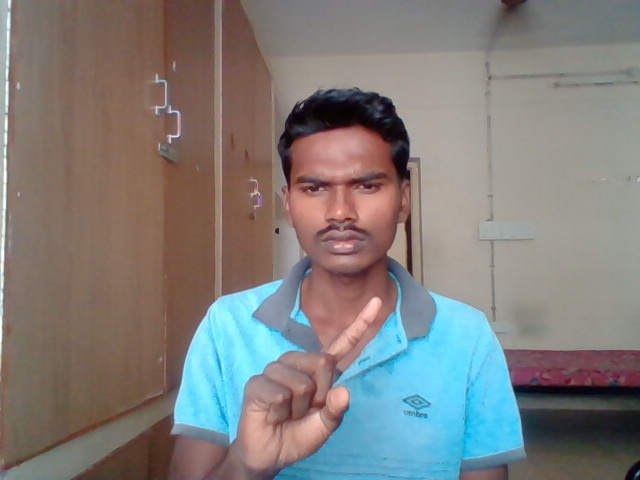No: (238, 295, 385, 472)
